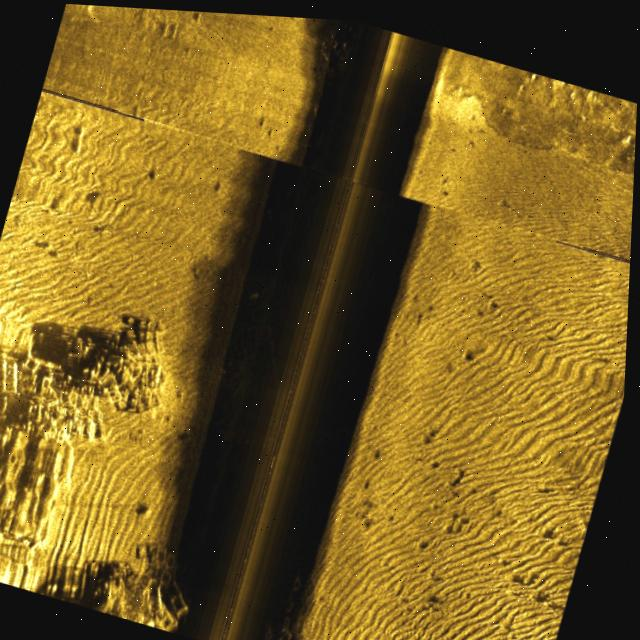artificial reef: (47, 292, 201, 459), (91, 513, 205, 631), (256, 541, 325, 640)
